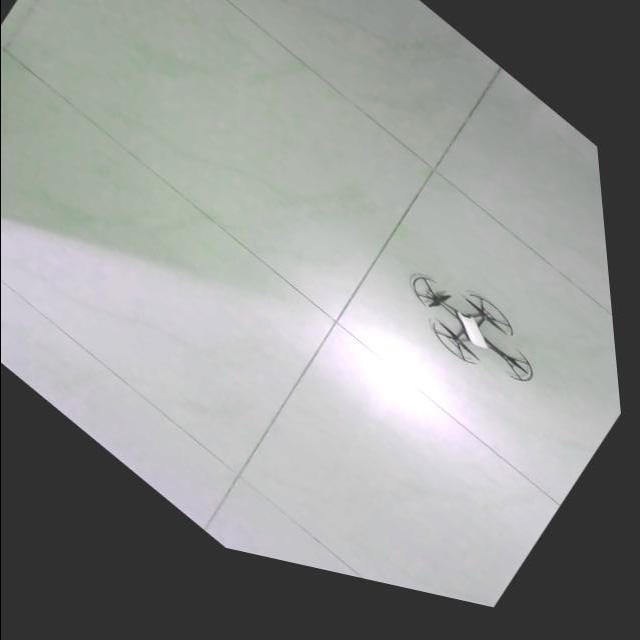drone: (418, 286, 540, 388)
